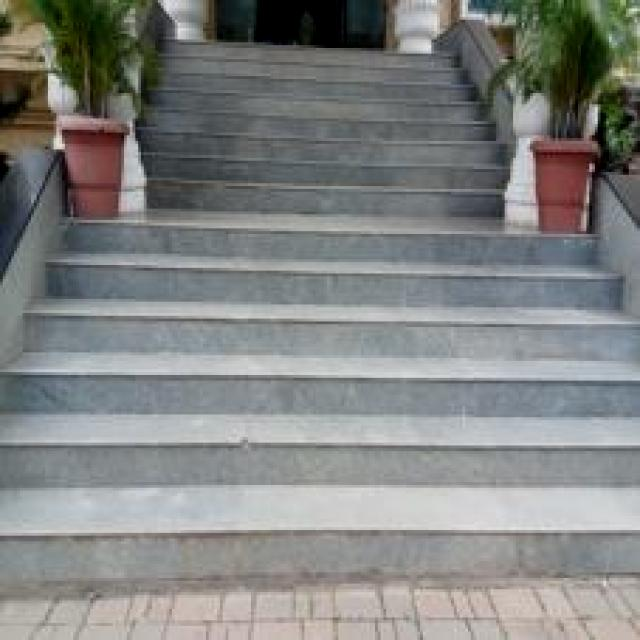stair: (20, 10, 609, 606)
